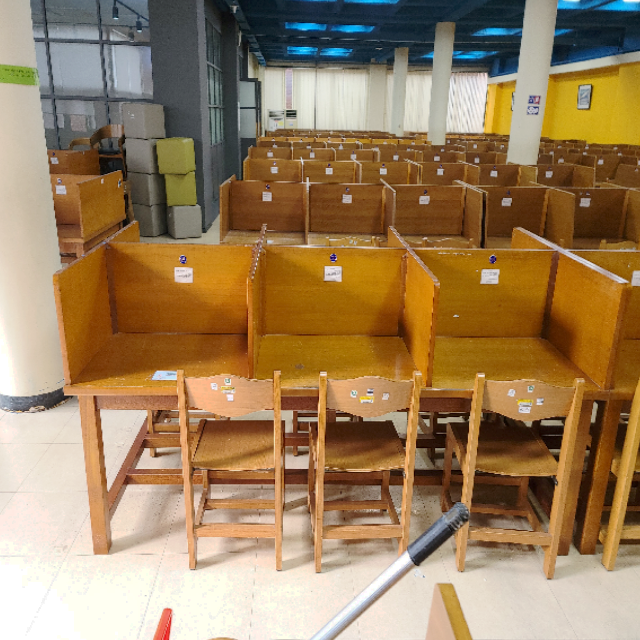empty: (63, 241, 250, 464), (436, 245, 603, 481), (257, 247, 429, 469)
